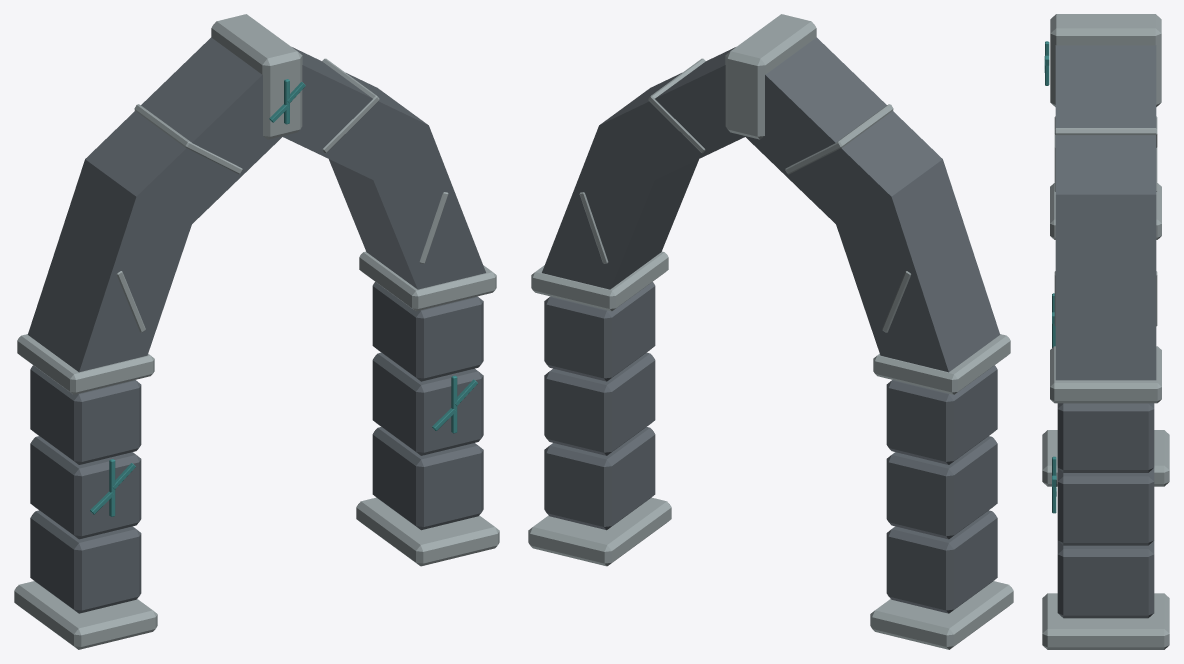
File: 01_Pointed_Gateway.glb
3 views of the same model, side by side, from view 1: azimuth 30°, elevation 25°; view 2: azimuth 150°, elevation 25°; view 3: azimuth 270°, elevation 25° (orthographic). The views are drawn at different scales.
Parts seen in each view (by area): view 1: 01_Pointed_Gateway__Crown, 01_Pointed_Gateway__LeftPier, 01_Pointed_Gateway__RightPier; view 2: 01_Pointed_Gateway__Crown, 01_Pointed_Gateway__LeftPier, 01_Pointed_Gateway__RightPier; view 3: 01_Pointed_Gateway__Crown, 01_Pointed_Gateway__RightPier, 01_Pointed_Gateway__LeftPier.
Part boxes in pixels (x1,y1,x2,y2): 01_Pointed_Gateway__Crown: (27,14,485,372); 01_Pointed_Gateway__LeftPier: (14,334,157,649); 01_Pointed_Gateway__RightPier: (356,251,499,566); 01_Pointed_Gateway__Crown: (542,14,1000,372); 01_Pointed_Gateway__LeftPier: (870,334,1013,649); 01_Pointed_Gateway__RightPier: (528,251,671,566); 01_Pointed_Gateway__Crown: (1044,14,1161,380); 01_Pointed_Gateway__RightPier: (1042,346,1169,649); 01_Pointed_Gateway__LeftPier: (1042,183,1169,486).
Size of the model in its own units: 4.99 by 6.05 by 1.32.
1 material, 1 textured.
